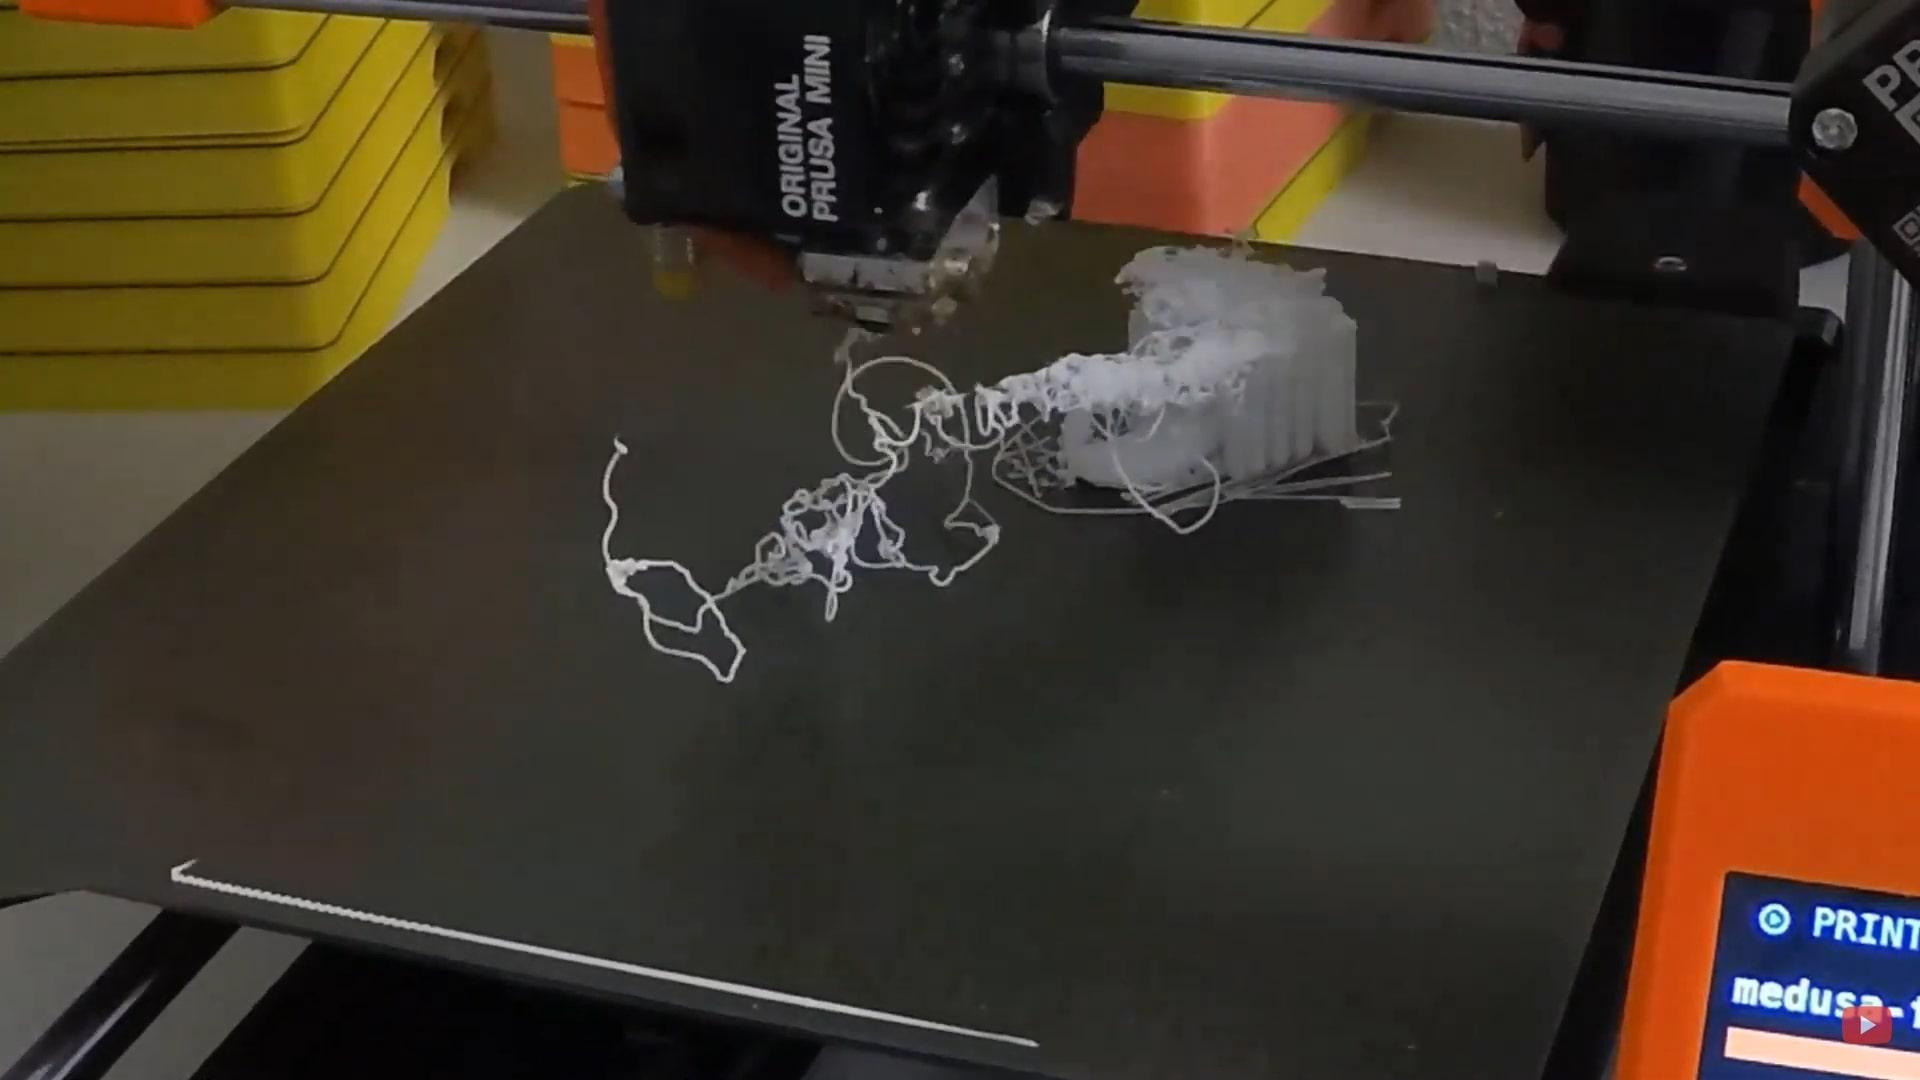Printing-Artifact: (587, 322, 1097, 690)
